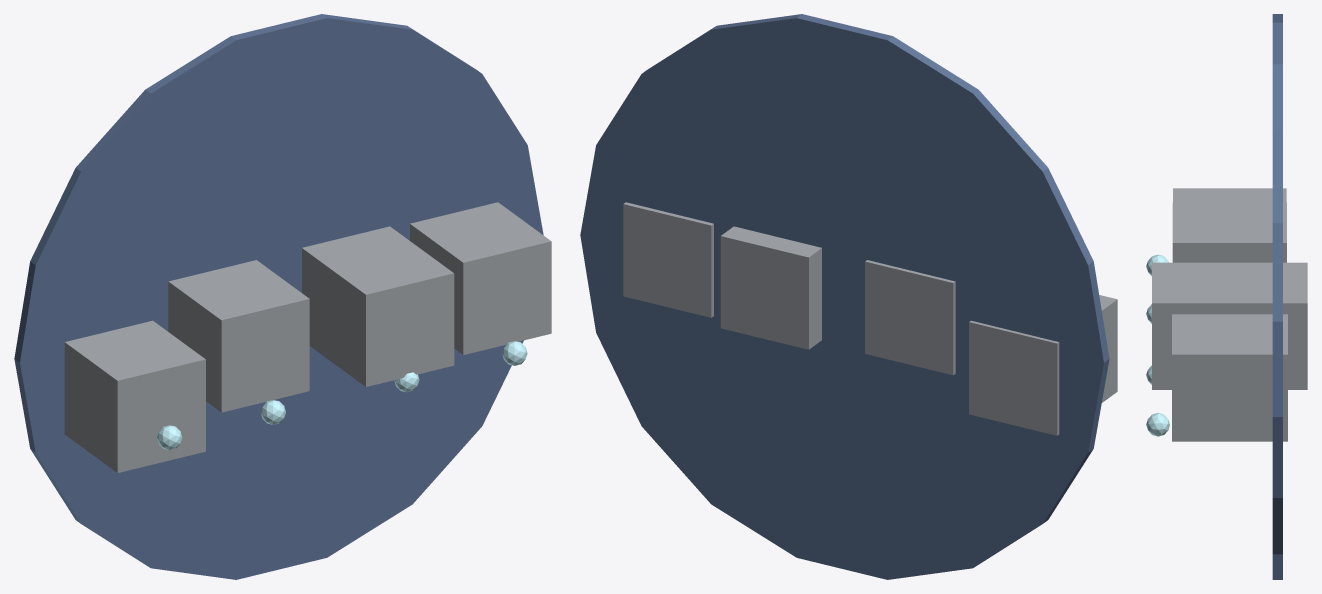
File: 02_local_prop_cluster.glb
The picture shows the model from 3 angles, left to right: view 1: azimuth 30°, elevation 25°; view 2: azimuth 150°, elevation 25°; view 3: azimuth 270°, elevation 25°; orthographic projection. The views are drawn at different scales.
Visible parts, largest first — view 1: scatter_base, tech_crate_2, tech_crate_0, tech_crate_1, tech_crate_3; view 2: scatter_base, tech_crate_2, tech_crate_0, tech_crate_3, tech_crate_1; view 3: tech_crate_3, tech_crate_2, tech_crate_1, scatter_base, tech_crate_0, status_light_3.
Boxes of the visible parts, x1=… form: scatter_base: x1=14, y1=14, x2=543, y2=579; tech_crate_2: x1=302, y1=226, x2=454, y2=386; tech_crate_0: x1=64, y1=320, x2=205, y2=472; tech_crate_1: x1=168, y1=260, x2=309, y2=412; tech_crate_3: x1=410, y1=202, x2=551, y2=354; scatter_base: x1=580, y1=14, x2=1109, y2=579; tech_crate_2: x1=720, y1=226, x2=821, y2=349; tech_crate_0: x1=969, y1=295, x2=1117, y2=435; tech_crate_3: x1=623, y1=202, x2=713, y2=317; tech_crate_1: x1=865, y1=260, x2=955, y2=375; tech_crate_3: x1=1172, y1=314, x2=1287, y2=441; tech_crate_2: x1=1152, y1=262, x2=1307, y2=389; tech_crate_1: x1=1172, y1=202, x2=1286, y2=262; scatter_base: x1=1272, y1=14, x2=1282, y2=579; tech_crate_0: x1=1173, y1=188, x2=1286, y2=202; status_light_3: x1=1146, y1=413, x2=1169, y2=436.
Bounding box in the file's own units: 1.9 × 1.87 × 0.5406.
